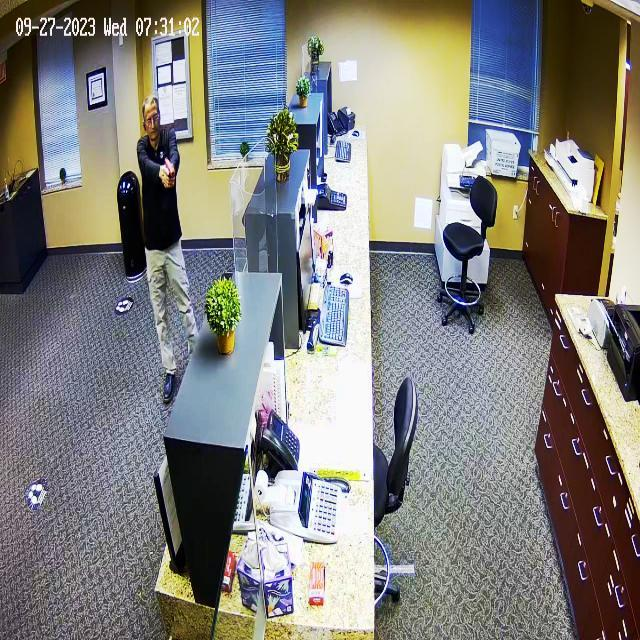Gun: (147, 151, 194, 191)
